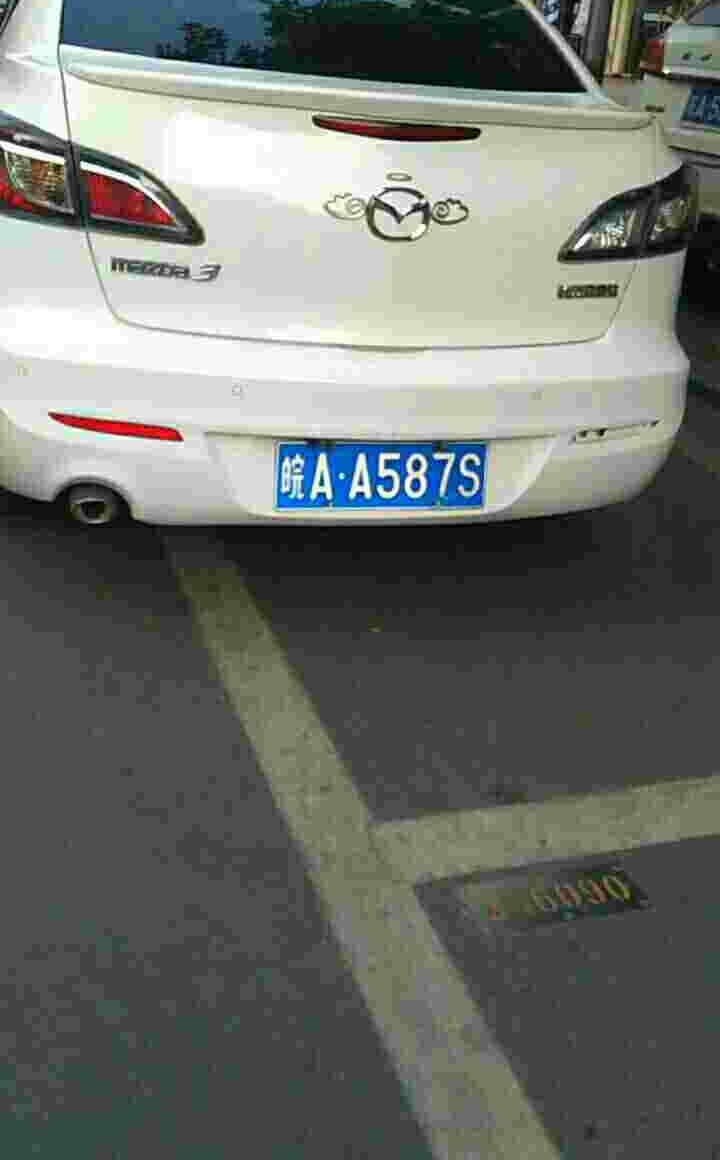license_plate: (261, 445, 485, 517)
